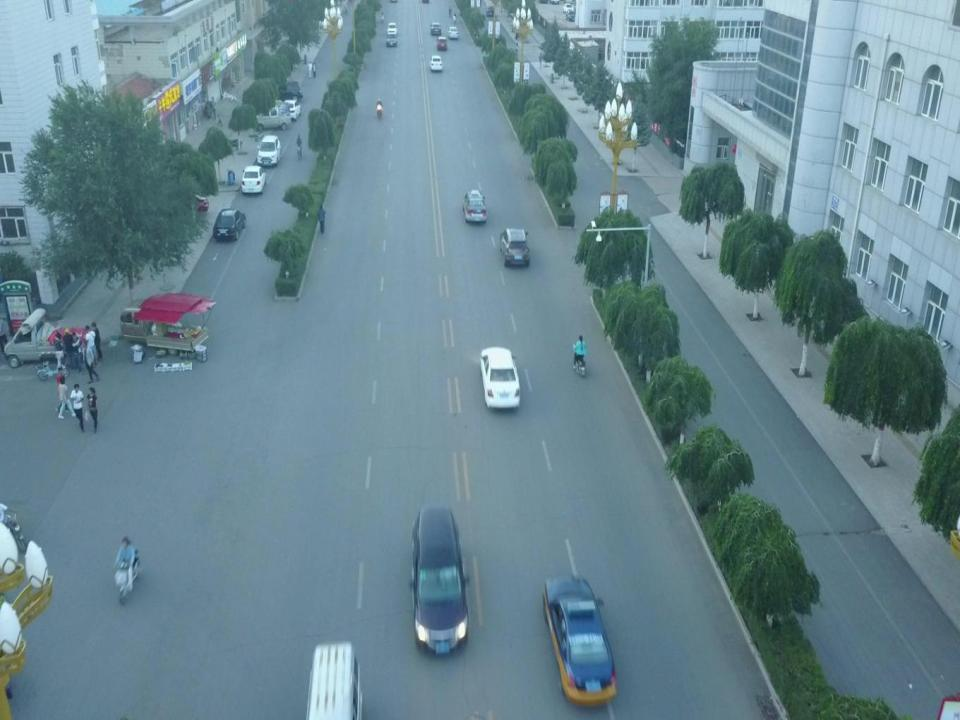car: (408, 505, 471, 658), (542, 575, 617, 703), (479, 346, 520, 410), (500, 226, 531, 266), (213, 207, 245, 242), (168, 186, 210, 212), (462, 190, 487, 222), (242, 164, 267, 196), (267, 81, 303, 103), (282, 100, 300, 122), (429, 56, 443, 70), (386, 33, 398, 47), (436, 37, 448, 50), (430, 22, 441, 36), (387, 22, 397, 36), (448, 26, 458, 38), (486, 5, 494, 17)
truck: (119, 298, 209, 351), (3, 321, 86, 364), (255, 104, 292, 129)
van: (310, 643, 362, 720), (256, 134, 281, 166)
